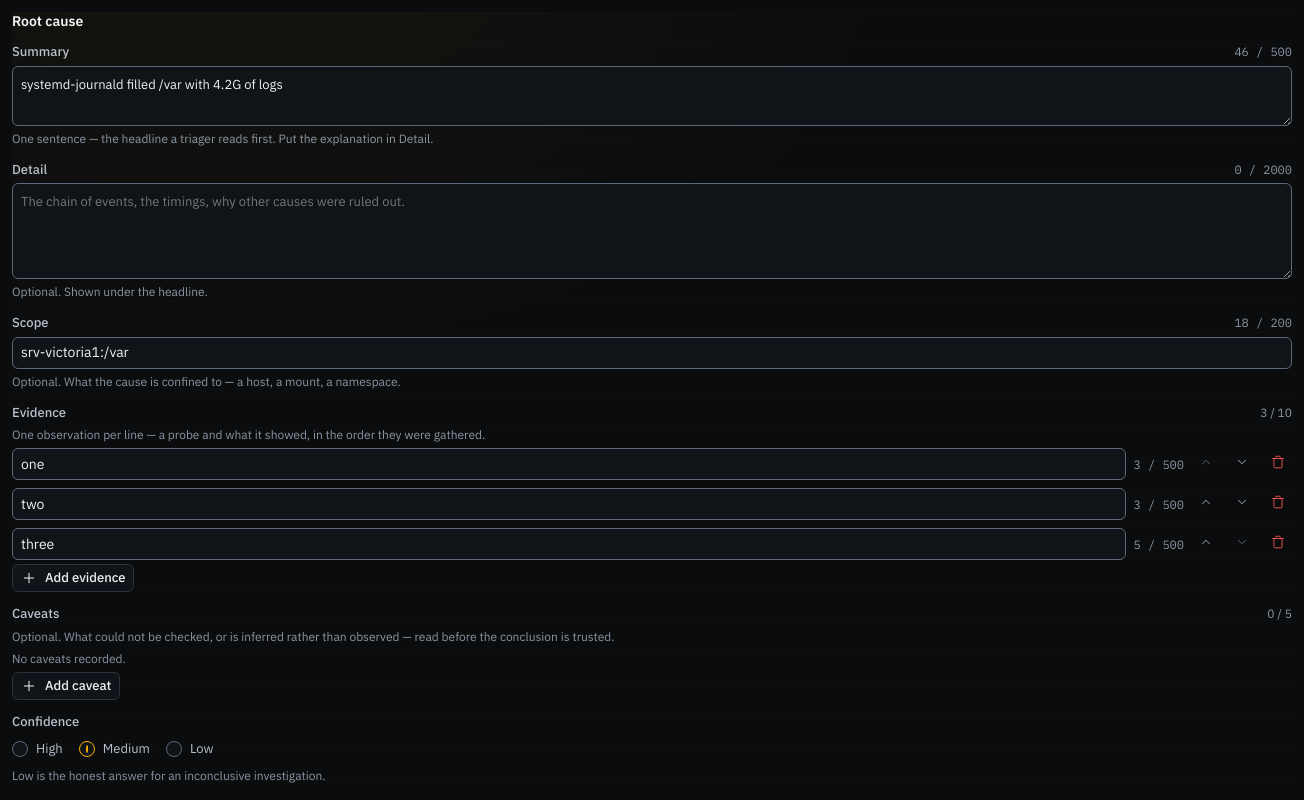
Scenario: AnalysisEditor › moves the caret to the row that took the removed evidence's place
Click the button named "Remove evidence 2" at point(1278, 502), box [1264, 488, 1292, 516]
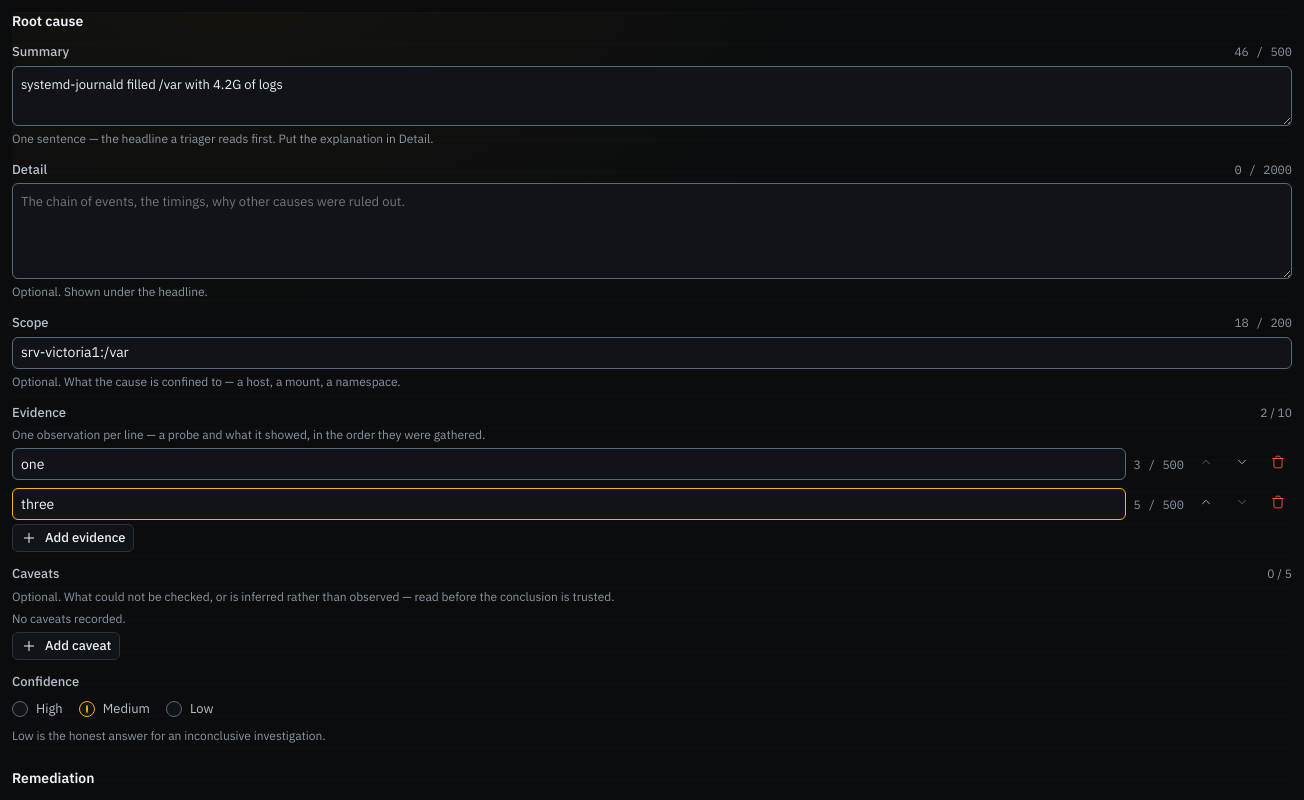
Now the field named "Evidence 2" holds "three", box [13, 494, 1125, 515]
